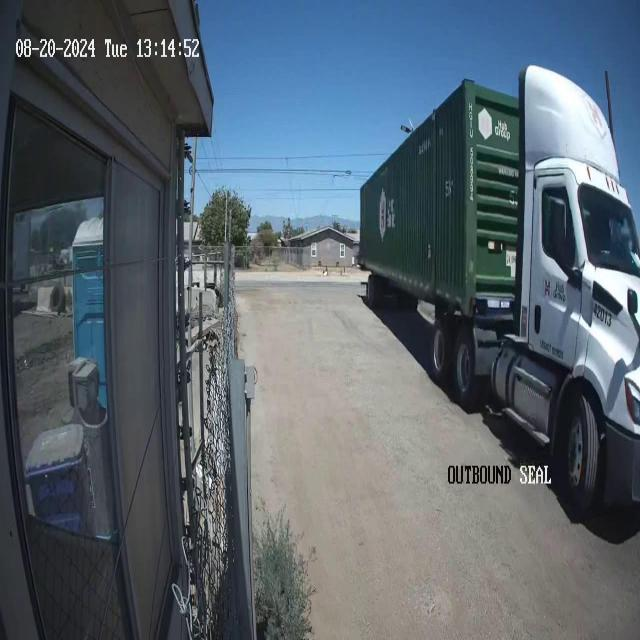CONTAINER: (357, 64, 521, 320)
